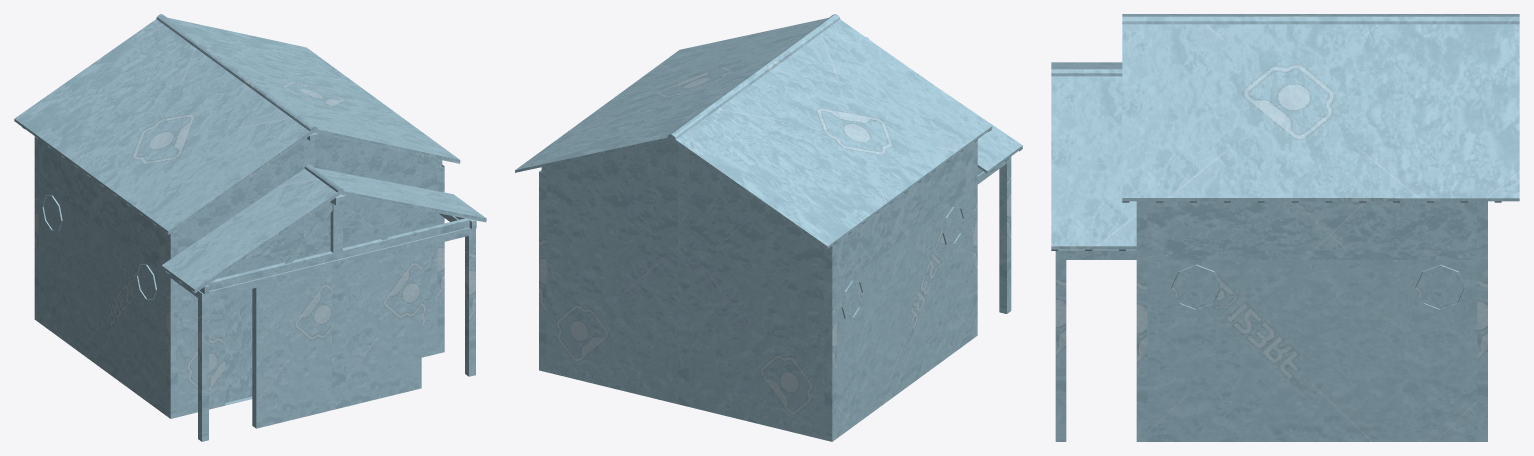
Rendered from Banheiro2.fbx.
3 views of the same model, side by side, from view 1: azimuth 30°, elevation 25°; view 2: azimuth 150°, elevation 25°; view 3: azimuth 270°, elevation 25° (orthographic). The views are drawn at different scales.
Parts seen in each view (by area): view 1: Plane; view 2: Plane; view 3: Plane.
Boxes of the visible parts, x1=… form: Plane: x1=14, y1=14, x2=486, y2=441; Plane: x1=515, y1=14, x2=1022, y2=441; Plane: x1=1051, y1=14, x2=1519, y2=441.
Size of the model in its own units: 620 by 531 by 664.
